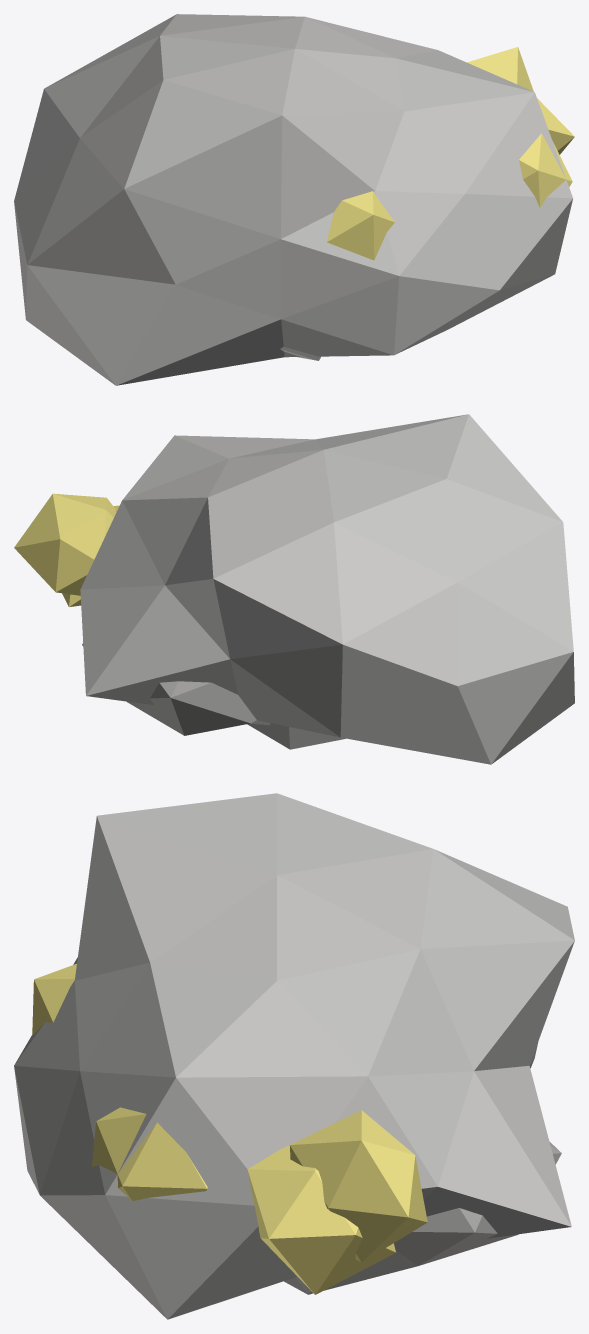
The model's file is node_sulfur_0.glb.
3 renders of one model, top to bottom at view 1: azimuth 30°, elevation 25°; view 2: azimuth 150°, elevation 25°; view 3: azimuth 270°, elevation 25°, orthographic. The views are drawn at different scales.
Visible parts, largest first — view 1: node_sulfur_0; view 2: node_sulfur_0; view 3: node_sulfur_0.
Boxes of the visible parts, x1,y1,x2,y2 form: node_sulfur_0: (14,14,574,385); node_sulfur_0: (14,414,574,764); node_sulfur_0: (14,793,574,1319).
Bounding box in the file's own units: 1.84 × 0.8237 × 1.3.
